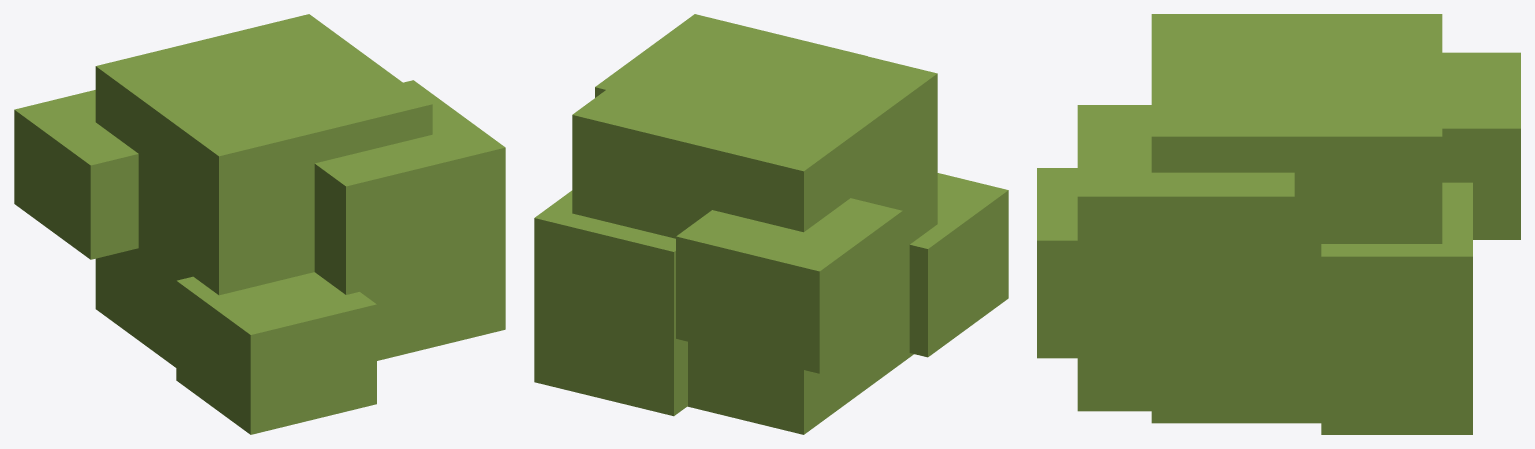
Rendered from SM_Bush_01_B.fbx.
3 renders of one model, left to right at view 1: azimuth 30°, elevation 25°; view 2: azimuth 150°, elevation 25°; view 3: azimuth 270°, elevation 25°, orthographic. The views are drawn at different scales.
Parts seen in each view (by area): view 1: pCube258; view 2: pCube258; view 3: pCube258.
Boxes of the visible parts, bbox=[...] form: pCube258: bbox=[14, 14, 505, 434]; pCube258: bbox=[534, 14, 1008, 434]; pCube258: bbox=[1037, 14, 1520, 434].
Size of the model in its own units: 46.46 by 35.58 by 54.48.
